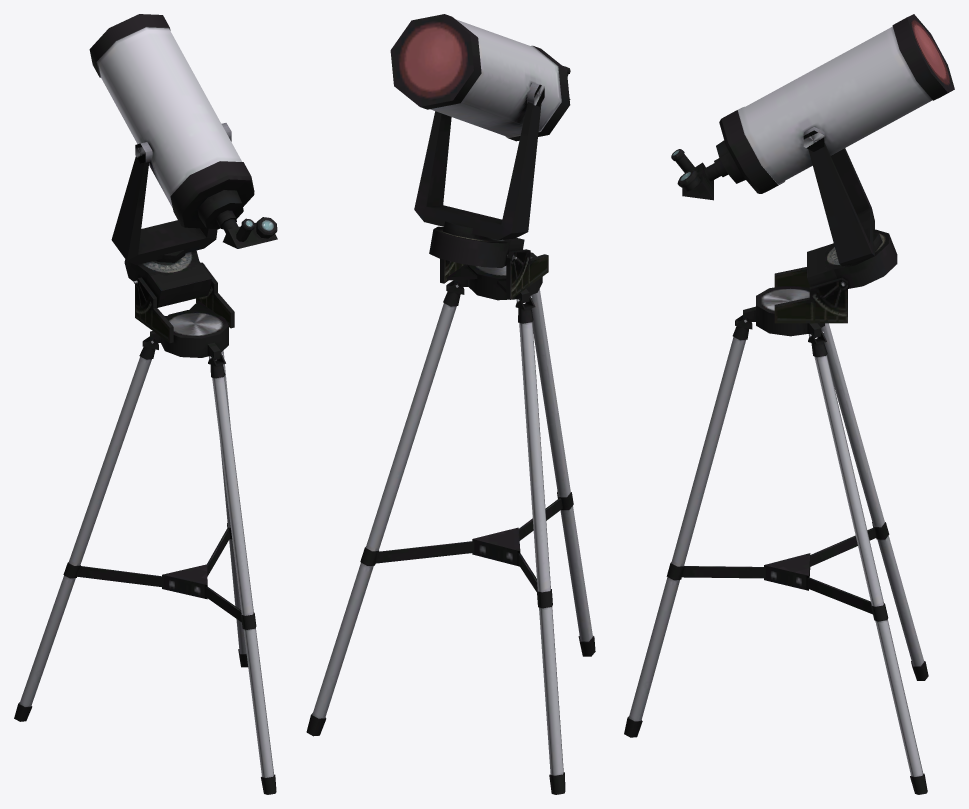
File: furni_0200405.FBX
3 renders of one model, left to right at view 1: azimuth 30°, elevation 25°; view 2: azimuth 150°, elevation 25°; view 3: azimuth 270°, elevation 25°, orthographic. The views are drawn at different scales.
Visible parts, largest first — view 1: furni_0200405; view 2: furni_0200405; view 3: furni_0200405.
Boxes of the visible parts, x1,y1,x2,y2 form: furni_0200405: (14, 14, 277, 794); furni_0200405: (306, 14, 595, 794); furni_0200405: (624, 14, 954, 794).
Size of the model in its own units: 63.52 by 175 by 73.19.
